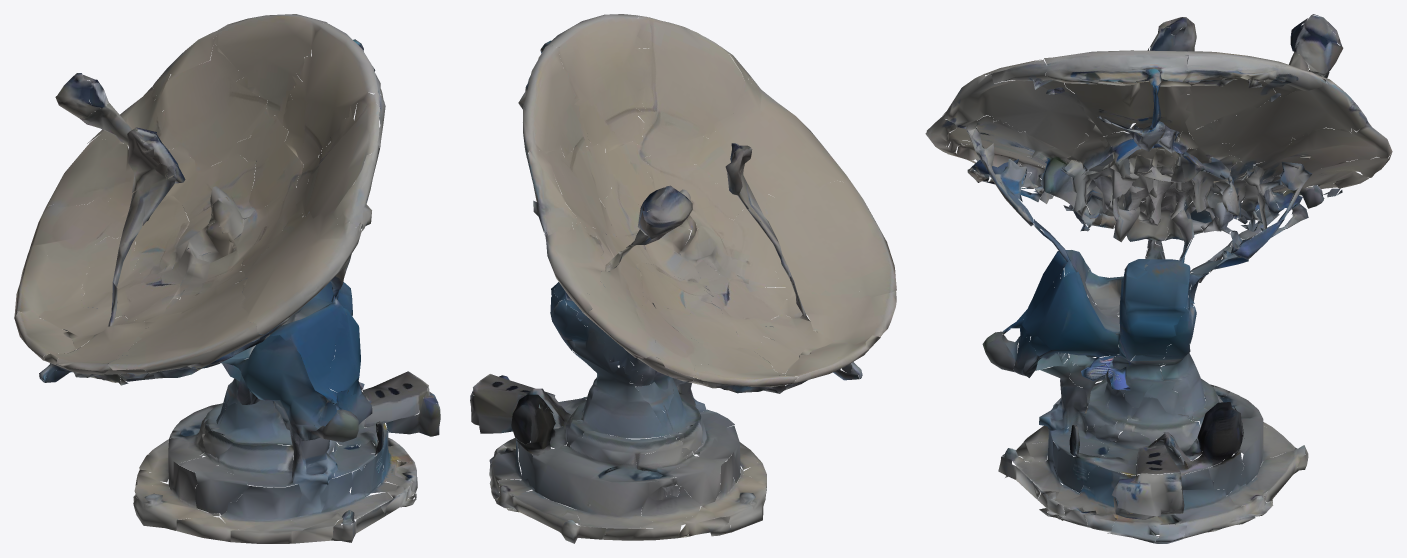
Rendered from prop_satellite_dish_array_01.glb.
The picture shows the model from 3 angles, left to right: view 1: azimuth 30°, elevation 25°; view 2: azimuth 150°, elevation 25°; view 3: azimuth 270°, elevation 25°; orthographic projection. The views are drawn at different scales.
Visible parts, largest first — view 1: tripo_node_8d8fb470-eee3-4bdb-a700-e3994e764901; view 2: tripo_node_8d8fb470-eee3-4bdb-a700-e3994e764901; view 3: tripo_node_8d8fb470-eee3-4bdb-a700-e3994e764901.
Boxes of the visible parts, x1,y1,x2,y2 form: tripo_node_8d8fb470-eee3-4bdb-a700-e3994e764901: [14, 14, 440, 543]; tripo_node_8d8fb470-eee3-4bdb-a700-e3994e764901: [470, 14, 896, 543]; tripo_node_8d8fb470-eee3-4bdb-a700-e3994e764901: [925, 14, 1392, 543].
Size of the model in its own units: 0.8897 by 0.9733 by 0.8949.
1 material, 1 textured.
